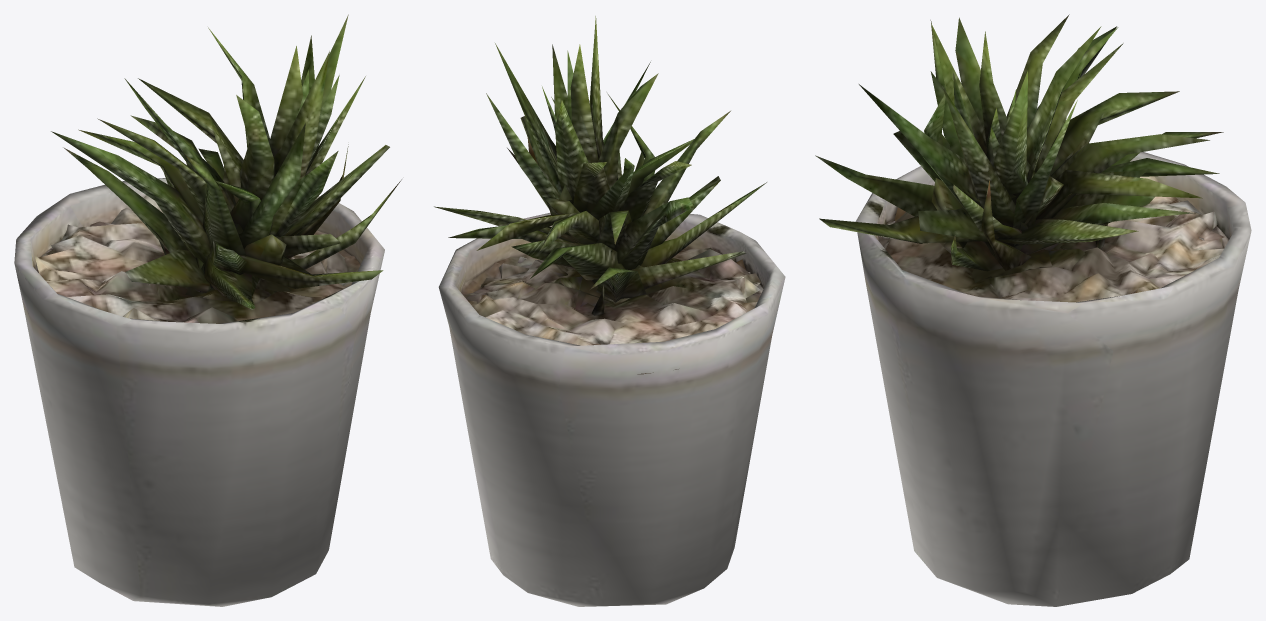
Rendered from plant2.glb.
3 renders of one model, left to right at view 1: azimuth 30°, elevation 25°; view 2: azimuth 150°, elevation 25°; view 3: azimuth 270°, elevation 25°, orthographic. The views are drawn at different scales.
Visible parts, largest first — view 1: lo; view 2: lo; view 3: lo.
Boxes of the visible parts, x1,y1,x2,y2 form: lo: (14,14,401,606); lo: (434,16,785,606); lo: (815,14,1251,606).
Bounding box in the file's own units: 0.1694 × 0.267 × 0.1849.
1 material, 1 textured.
